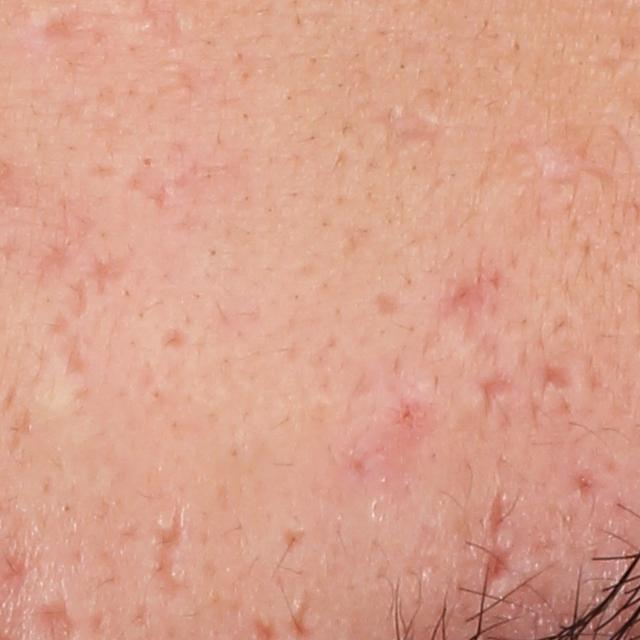atrophic_scar: (366, 105, 449, 157), (151, 498, 188, 601), (34, 236, 78, 288), (122, 167, 171, 210), (477, 373, 521, 416), (85, 251, 123, 298), (483, 546, 513, 593), (3, 407, 32, 455), (41, 9, 82, 40), (369, 286, 405, 319), (538, 362, 571, 397), (61, 333, 86, 379), (68, 279, 90, 320), (281, 523, 308, 555), (488, 492, 503, 547), (0, 377, 19, 416), (45, 309, 69, 335)
comedo: (137, 153, 160, 171)
hypertrophic_scar: (524, 136, 572, 186), (155, 512, 177, 531)
